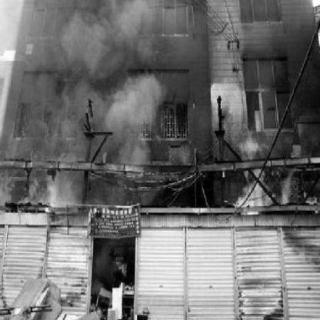Fire: (225, 124, 307, 226)
